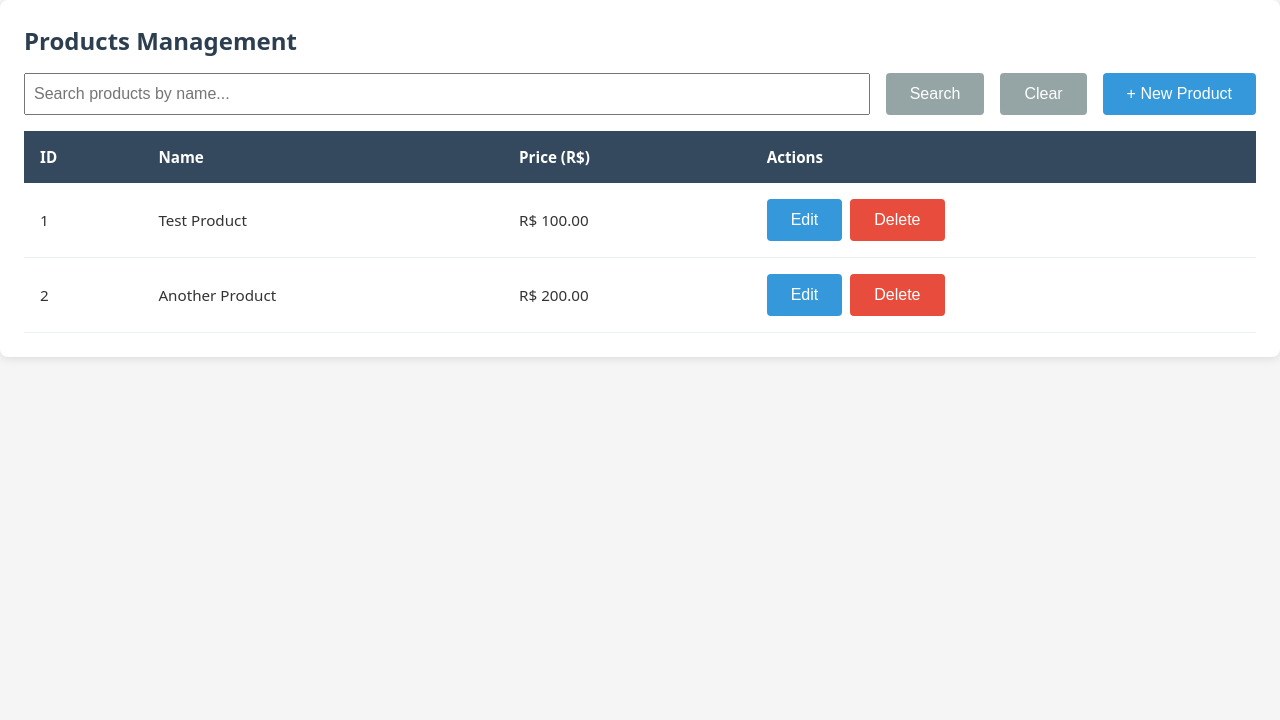
Scenario: ProductsPage › opens form when new product button is clicked
The image size is (1280, 720).
Click the button "+ New Product": [1179, 94] box [1103, 73, 1256, 115]
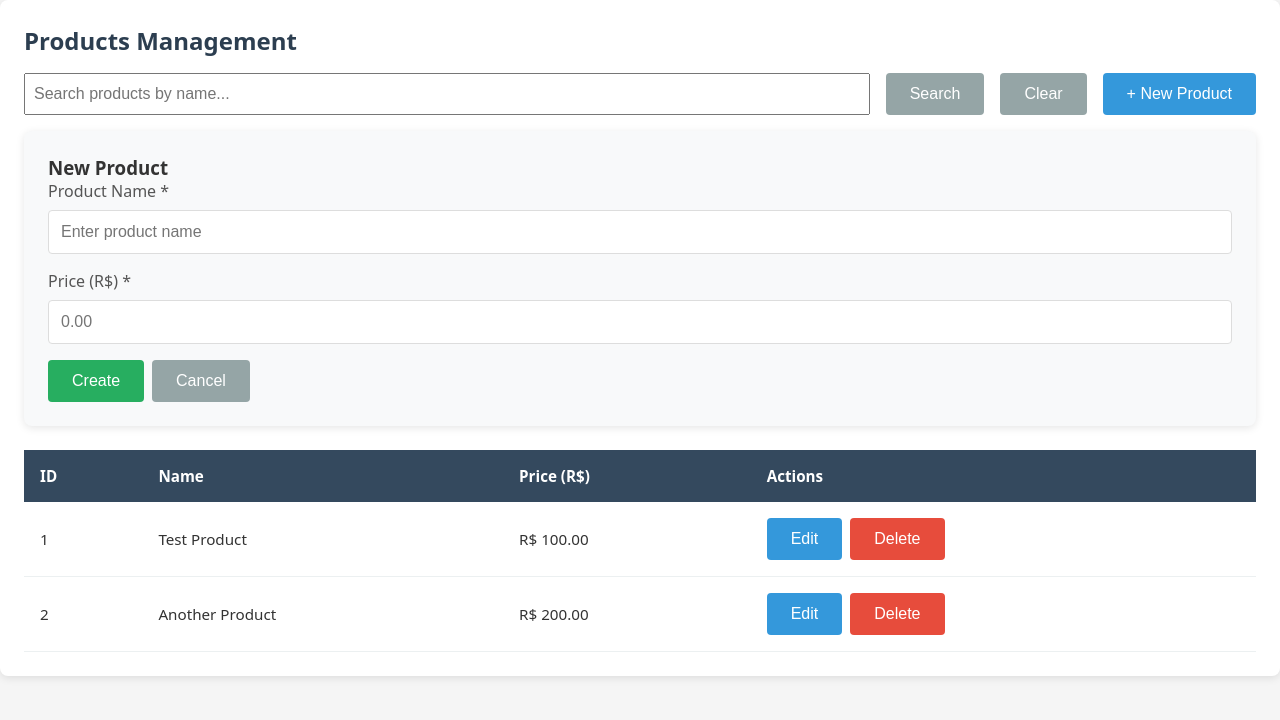
Expected: the heading "New Product" is shown, [48, 155, 168, 180]
Expected: the field labelled "Product Name *" is shown, [48, 210, 1232, 254]
